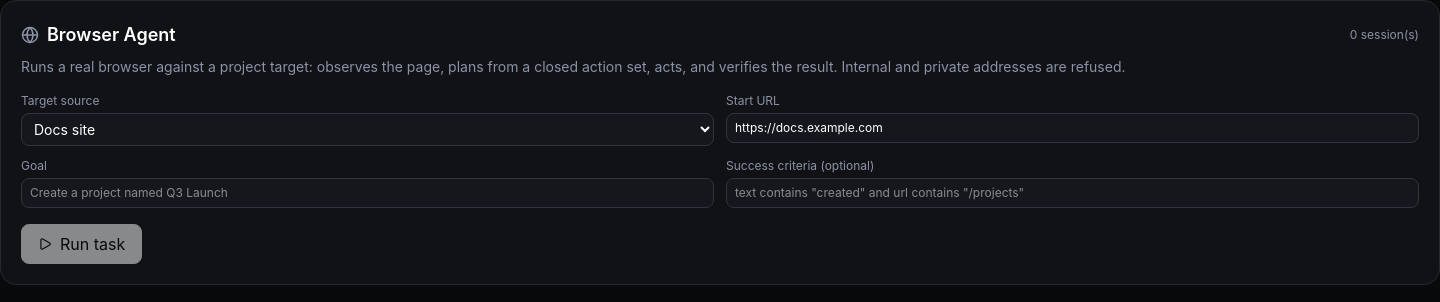
it: BrowserPanel › cannot start a task until a goal is entered
expect the button "Run task" is disabled: met, box [21,224,142,264]
Type "Find the pricing page" into the field labelled "Goal".
click(368, 193); type("Find the pricing page")  # box [21,178,714,208]
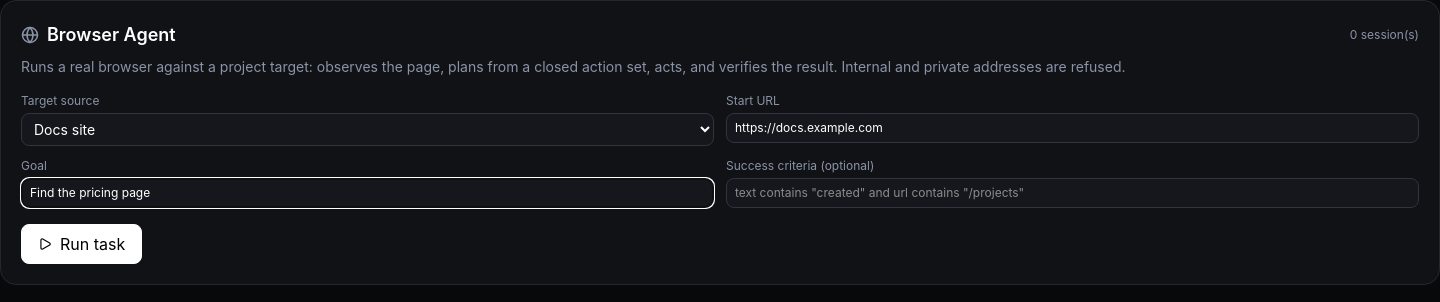
expect the button "Run task" is enabled: met, box [21,224,142,264]
